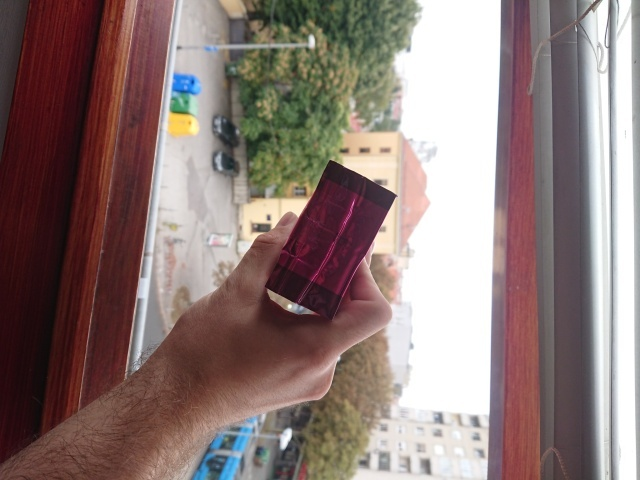Barcaffe Classic Original 225g: (262, 158, 400, 325)
